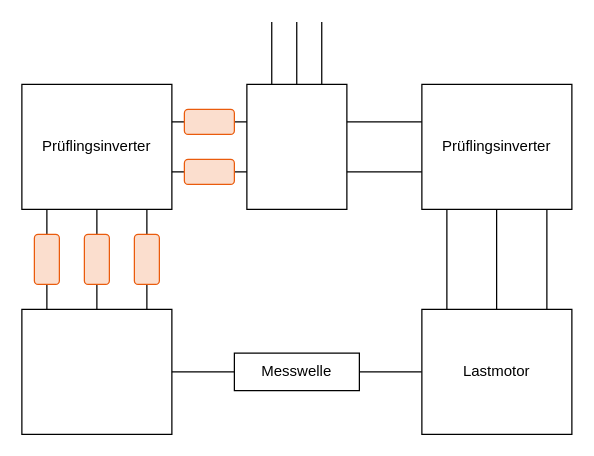
Some shapes in this 594 by 456 pixel diagram are drawn without their labels. The centre of each missing label's shape, as x and y in pixels:
"Einspeisung" goes at [296,146].
"Prüflingsmotor" goes at [96,371].
